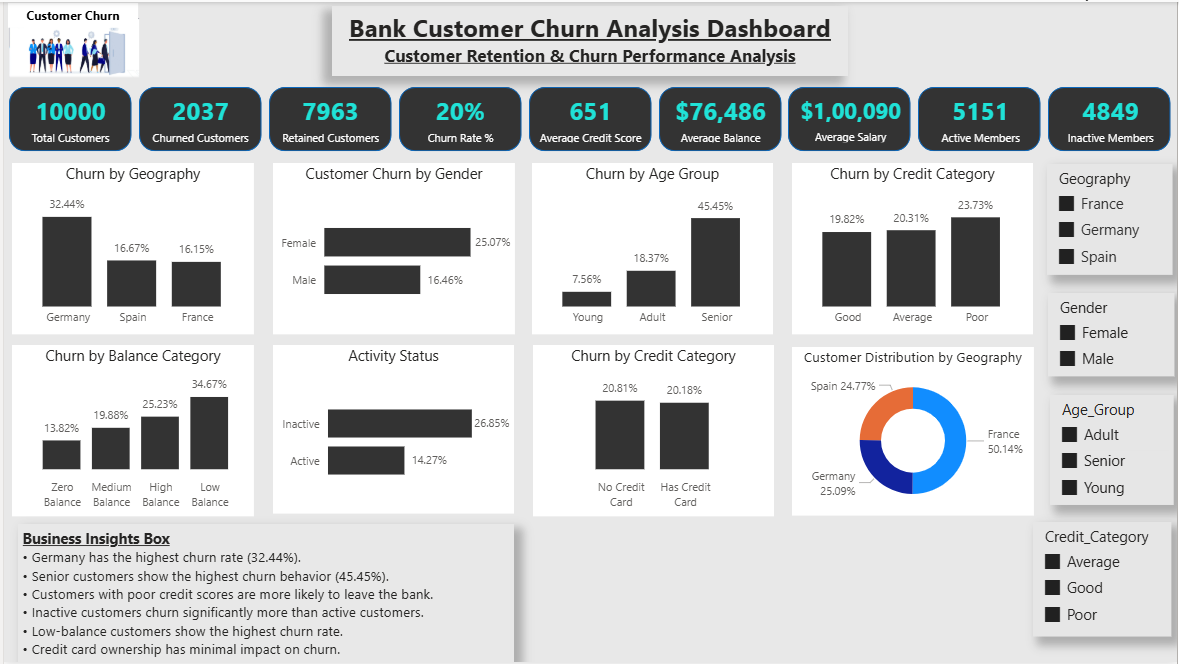

What the dashboard file says about the page in this screenshot:
{"tool":"powerbi","page":{"name":"Page 1","canvas":[1280,720],"ordinal":0},"visuals":[{"type":"group","id":"g1","title":"KPI Card","box":[5.5,92.8,1267.8,70],"z":0},{"type":"group","id":"g2","title":"Background KPI","box":[5.5,92.8,1267.8,70],"z":0,"group":"g1"},{"type":"shape","box":[1139.6,92.8,133.7,70],"z":0,"group":"g2"},{"type":"card","fields":{"Values":["Measure Table.Total Customers"]},"box":[10.5,97.2,123.6,61.1],"z":0,"group":"g3"},{"type":"card","fields":{"Values":["Measure Table.Churned Customers"]},"box":[152.3,97.2,123.6,61.1],"z":1000,"group":"g3"},{"type":"clusteredColumnChart","title":"Churn by Geography","fields":{"Category":["Bank Customer Churn CSV.Geography"],"Y":["Measure Table.Churn Rate %"]},"box":[8.7,175.7,264.1,186.6],"z":1000},{"type":"image","box":[5.5,18,141.9,65],"z":2000,"group":"g4"},{"type":"shape","box":[997.8,92.8,133.7,70],"z":2000,"group":"g2"},{"type":"card","fields":{"Values":["Measure Table.Retained Customers"]},"box":[294.1,97.2,123.6,61.1],"z":2000,"group":"g3"},{"type":"slicer","fields":{"Values":["Bank Customer Churn CSV.Geography"]},"box":[1138.1,176.8,136.8,121.3],"z":2000},{"type":"textbox","box":[4.8,1.4,142.2,26.5],"z":3000,"group":"g4"},{"type":"shape","box":[856.1,92.8,133.7,70],"z":3000,"group":"g2"},{"type":"card","fields":{"Values":["Measure Table.Churn Rate %"]},"box":[436,97.2,123.6,61.1],"z":3000,"group":"g3"},{"type":"clusteredBarChart","title":"Customer Churn by Gender","fields":{"Category":["Bank Customer Churn CSV.Gender"],"Y":["Measure Table.Churn Rate %"]},"box":[293.5,175.7,264.1,186.6],"z":3000},{"type":"shape","box":[714.3,92.8,133.7,70],"z":4000,"group":"g2"},{"type":"card","fields":{"Values":["Measure Table.Average Credit Score"]},"box":[577.8,97.2,123.6,61.1],"z":4000,"group":"g3"},{"type":"slicer","fields":{"Values":["Bank Customer Churn CSV.Gender"]},"box":[1139.1,317.6,138,91.3],"z":4000},{"type":"shape","box":[572.5,92.8,133.7,70],"z":5000,"group":"g2"},{"type":"card","fields":{"Values":["Measure Table.Average Balance"]},"box":[719.6,97.2,123.6,61.1],"z":5000,"group":"g3"},{"type":"clusteredColumnChart","title":"Churn by Age Group","fields":{"Category":["Bank Customer Churn CSV.Age_Group"],"Y":["Measure Table.Churn Rate %"]},"box":[576.2,175.7,263,186.6],"z":5000},{"type":"shape","box":[430.8,92.8,133.7,70],"z":6000,"group":"g2"},{"type":"card","fields":{"Values":["Measure Table.Average Salary"]},"box":[861.4,97.2,123.6,61.1],"z":6000,"group":"g3"},{"type":"slicer","fields":{"Values":["Bank Customer Churn CSV.Age_Group"]},"box":[1141.3,428.3,134.8,119.6],"z":6000},{"type":"shape","box":[289,92.8,133.7,70],"z":7000,"group":"g2"},{"type":"card","fields":{"Values":["Measure Table.Active Members"]},"box":[1003.3,97.2,123.6,61.1],"z":7000,"group":"g3"},{"type":"clusteredColumnChart","title":"Churn by Credit Category","fields":{"Category":["Bank Customer Churn CSV.Credit_Category"],"Y":["Measure Table.Churn Rate %"]},"box":[859.9,175.7,263,186.6],"z":7000},{"type":"shape","box":[147.3,92.8,133.7,70],"z":8000,"group":"g2"},{"type":"card","fields":{"Values":["Measure Table.Inactive Members"]},"box":[1145.1,97.2,123.6,61.1],"z":8000,"group":"g3"},{"type":"slicer","fields":{"Values":["Bank Customer Churn CSV.Credit_Category"]},"box":[1122.8,567.4,151.1,125],"z":8000},{"type":"group","id":"g3","title":"KPI Values","box":[10.5,97.2,1258.2,61.1],"z":8003,"group":"g1"},{"type":"shape","box":[5.5,92.8,133.7,70],"z":9000,"group":"g2"},{"type":"clusteredColumnChart","title":"Churn by Balance Category","fields":{"Category":["Bank Customer Churn CSV.Balance_Category"],"Y":["Measure Table.Churn Rate %"]},"box":[8.7,374.3,264.1,186.6],"z":9000},{"type":"textbox","box":[357.9,4.4,563.1,76.4],"z":10000},{"type":"clusteredBarChart","title":"Activity Status","fields":{"Category":["Bank Customer Churn CSV.Activity Status"],"Y":["Measure Table.Churn Rate %"]},"box":[293.5,374.3,263,184.4],"z":11000},{"type":"donutChart","title":"Customer Distribution by Geography","fields":{"Category":["Bank Customer Churn CSV.Geography"],"Y":["Measure Table.Total Customers"]},"box":[859.9,376.5,264.1,184.4],"z":12000},{"type":"clusteredColumnChart","title":"Churn by Credit Category","fields":{"Category":["Bank Customer Churn CSV.Credit Card Status"],"Y":["Measure Table.Churn Rate %"]},"box":[577.3,374.3,263,186.6],"z":13000},{"type":"textbox","box":[15.3,569.6,541.2,150.6],"z":14000},{"type":"group","id":"g4","title":"Group 1","box":[4.8,1.4,142.6,81.6],"z":15000}]}

Visuals, with their boxes in screenshot pixels (x1, y1, x2, y2), scaled from the page's 1280x720 canvas onto the 1179x664 screenshot:
"KPI Card" group: {"left": 5, "top": 86, "right": 1173, "bottom": 150}
"Background KPI" group: {"left": 5, "top": 86, "right": 1173, "bottom": 150}
shape: {"left": 1050, "top": 86, "right": 1173, "bottom": 150}
card - Measure Table.Total Customers: {"left": 10, "top": 90, "right": 124, "bottom": 146}
card - Measure Table.Churned Customers: {"left": 140, "top": 90, "right": 254, "bottom": 146}
"Churn by Geography" clusteredColumnChart: {"left": 8, "top": 162, "right": 251, "bottom": 334}
image: {"left": 5, "top": 17, "right": 136, "bottom": 77}
shape: {"left": 919, "top": 86, "right": 1042, "bottom": 150}
card - Measure Table.Retained Customers: {"left": 271, "top": 90, "right": 385, "bottom": 146}
slicer - Bank Customer Churn CSV.Geography: {"left": 1048, "top": 163, "right": 1174, "bottom": 275}
textbox: {"left": 4, "top": 1, "right": 135, "bottom": 26}
shape: {"left": 789, "top": 86, "right": 912, "bottom": 150}
card - Measure Table.Churn Rate %: {"left": 402, "top": 90, "right": 515, "bottom": 146}
"Customer Churn by Gender" clusteredBarChart: {"left": 270, "top": 162, "right": 514, "bottom": 334}
shape: {"left": 658, "top": 86, "right": 781, "bottom": 150}
card - Measure Table.Average Credit Score: {"left": 532, "top": 90, "right": 646, "bottom": 146}
slicer - Bank Customer Churn CSV.Gender: {"left": 1049, "top": 293, "right": 1176, "bottom": 377}
shape: {"left": 527, "top": 86, "right": 650, "bottom": 150}
card - Measure Table.Average Balance: {"left": 663, "top": 90, "right": 777, "bottom": 146}
"Churn by Age Group" clusteredColumnChart: {"left": 531, "top": 162, "right": 773, "bottom": 334}
shape: {"left": 397, "top": 86, "right": 520, "bottom": 150}
card - Measure Table.Average Salary: {"left": 793, "top": 90, "right": 907, "bottom": 146}
slicer - Bank Customer Churn CSV.Age_Group: {"left": 1051, "top": 395, "right": 1175, "bottom": 505}
shape: {"left": 266, "top": 86, "right": 389, "bottom": 150}
card - Measure Table.Active Members: {"left": 924, "top": 90, "right": 1038, "bottom": 146}
"Churn by Credit Category" clusteredColumnChart: {"left": 792, "top": 162, "right": 1034, "bottom": 334}
shape: {"left": 136, "top": 86, "right": 259, "bottom": 150}
card - Measure Table.Inactive Members: {"left": 1055, "top": 90, "right": 1169, "bottom": 146}
slicer - Bank Customer Churn CSV.Credit_Category: {"left": 1034, "top": 523, "right": 1173, "bottom": 639}
"KPI Values" group: {"left": 10, "top": 90, "right": 1169, "bottom": 146}
shape: {"left": 5, "top": 86, "right": 128, "bottom": 150}
"Churn by Balance Category" clusteredColumnChart: {"left": 8, "top": 345, "right": 251, "bottom": 517}
textbox: {"left": 330, "top": 4, "right": 848, "bottom": 75}
"Activity Status" clusteredBarChart: {"left": 270, "top": 345, "right": 513, "bottom": 515}
"Customer Distribution by Geography" donutChart: {"left": 792, "top": 347, "right": 1035, "bottom": 517}
"Churn by Credit Category" clusteredColumnChart: {"left": 532, "top": 345, "right": 774, "bottom": 517}
textbox: {"left": 14, "top": 525, "right": 513, "bottom": 663}
"Group 1" group: {"left": 4, "top": 1, "right": 136, "bottom": 77}
